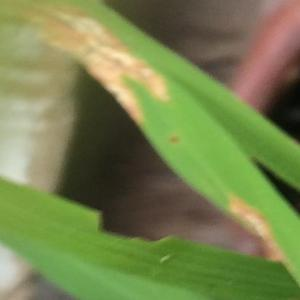Rice_Blast: (34, 11, 176, 125), (213, 180, 293, 264)
